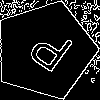P: (20, 25, 76, 82)
